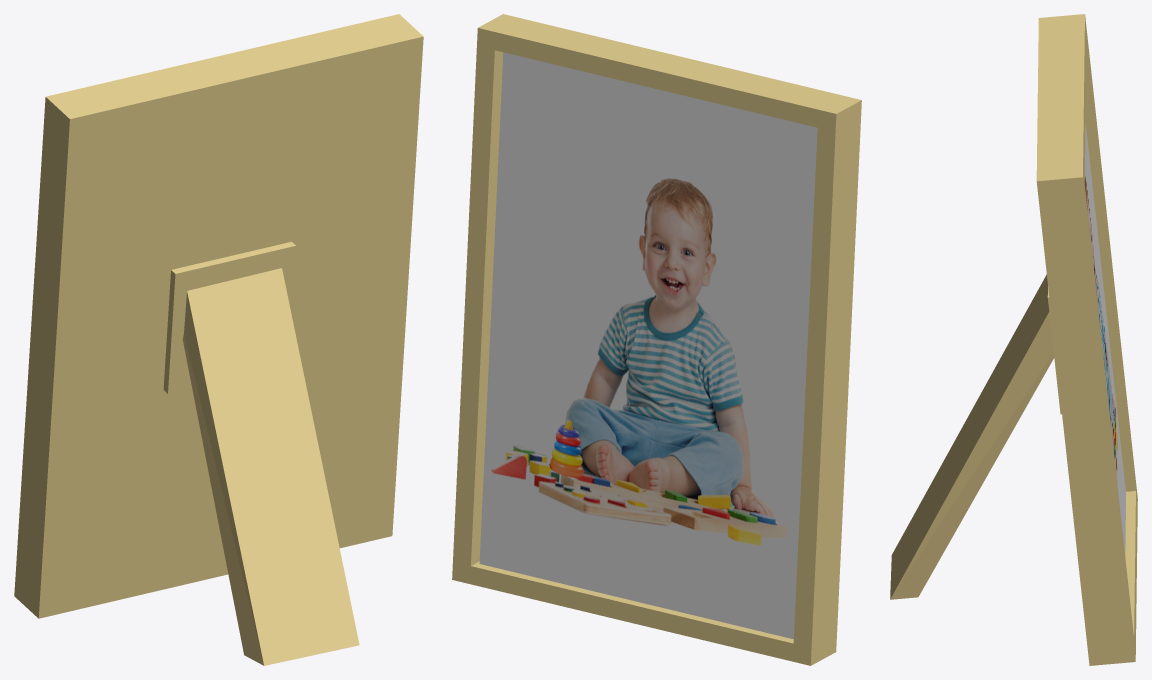
Rendered from frame photo.fbx.
The picture shows the model from 3 angles, left to right: view 1: azimuth 30°, elevation 25°; view 2: azimuth 150°, elevation 25°; view 3: azimuth 270°, elevation 25°; orthographic projection. The views are drawn at different scales.
Visible parts, largest first — view 1: polySurface2; view 2: polySurface2; view 3: polySurface2.
Boxes of the visible parts, bbox=[...] form: polySurface2: bbox=[14, 14, 423, 665]; polySurface2: bbox=[452, 14, 861, 665]; polySurface2: bbox=[890, 14, 1137, 665].
Size of the model in its own units: 3.82 by 5.4 by 2.46.
Materials: 1 (1 with a texture image).
